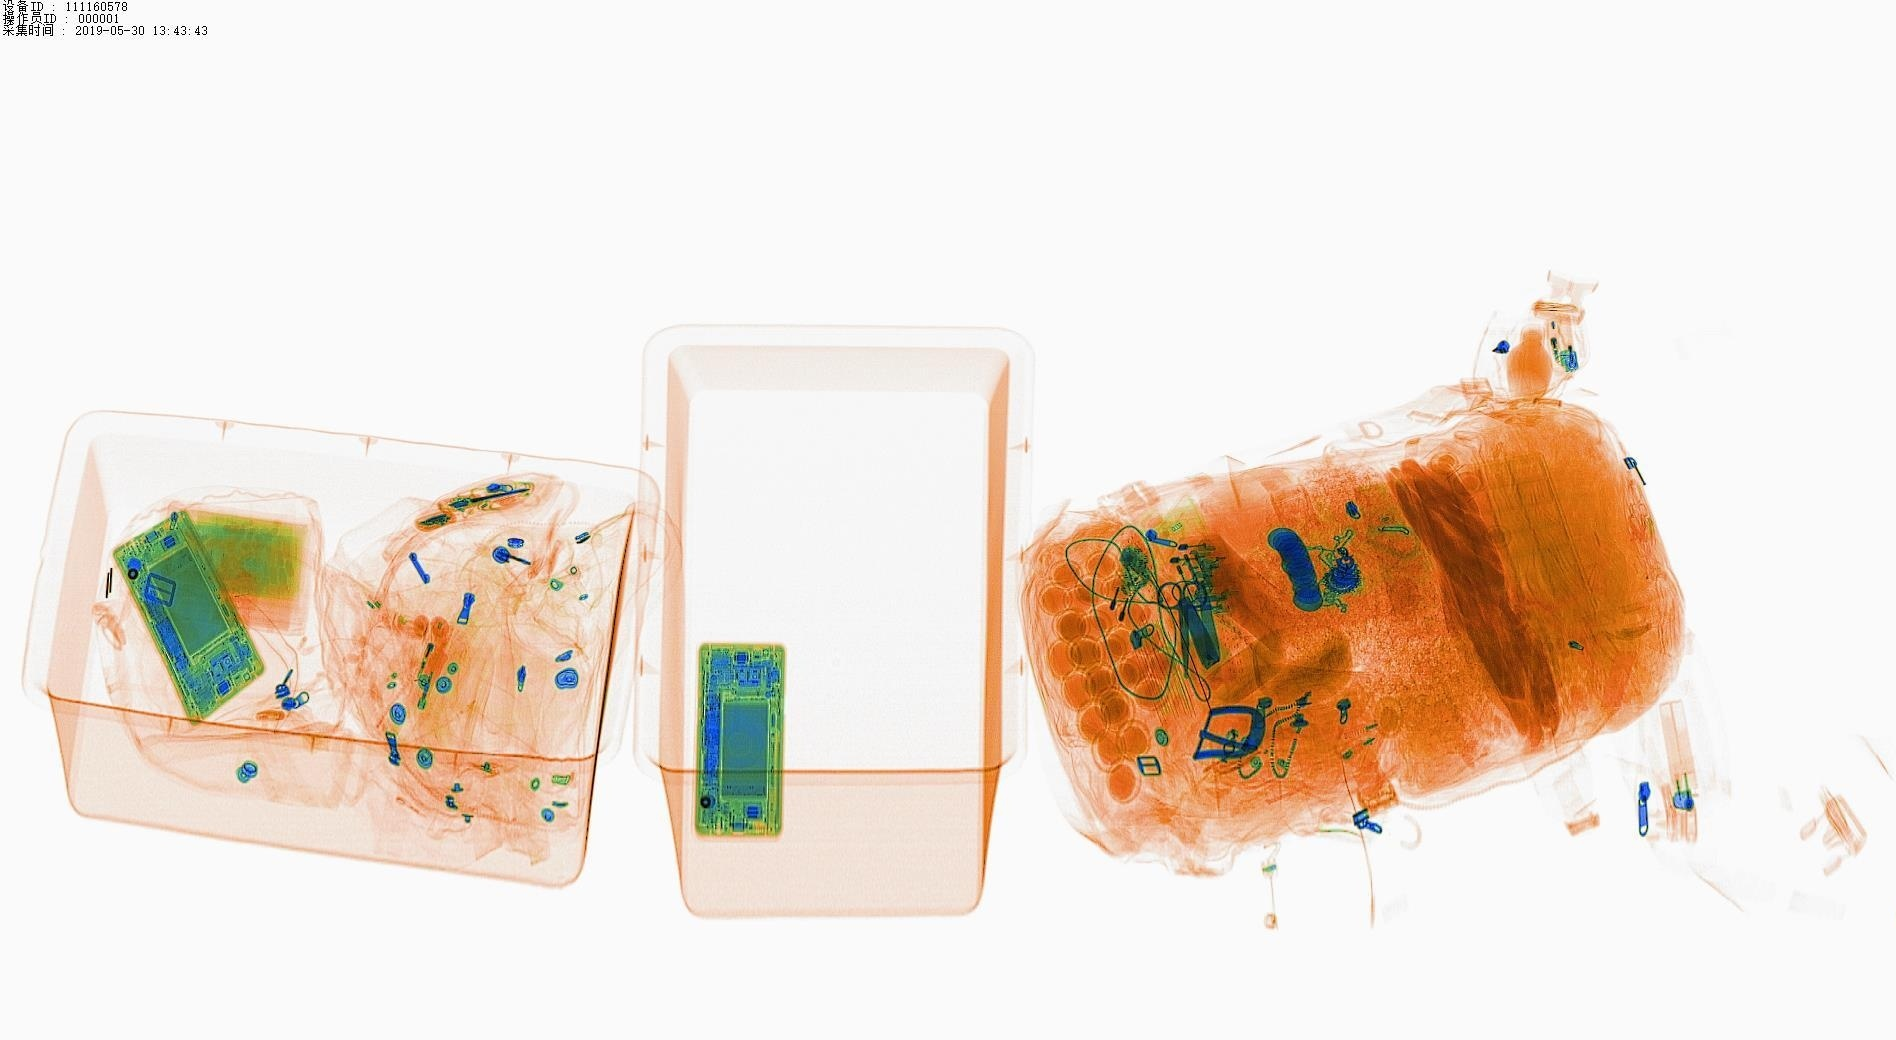NonmetallicFire: (390, 617, 458, 722), (1538, 304, 1616, 380)
